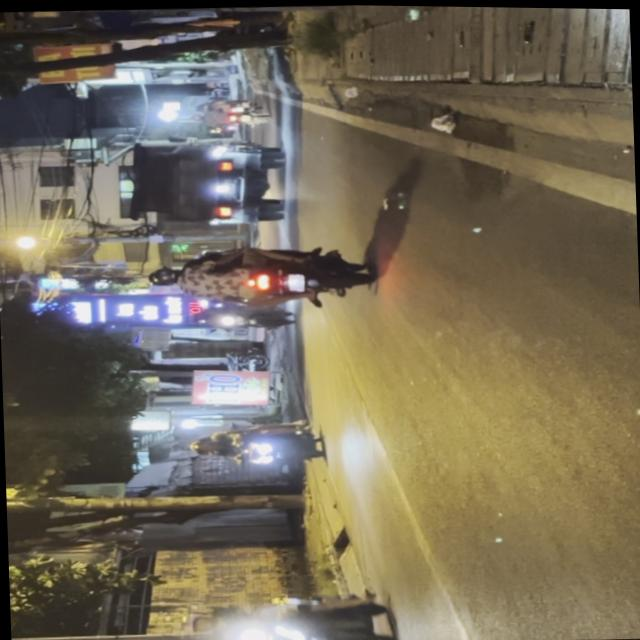helmet: (146, 266, 179, 285)
licenseplate: (144, 239, 374, 312), (152, 584, 399, 640)
nohelmet: (286, 273, 302, 291)
